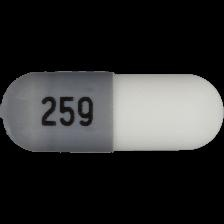54868-6221: (0, 0, 224, 224)
